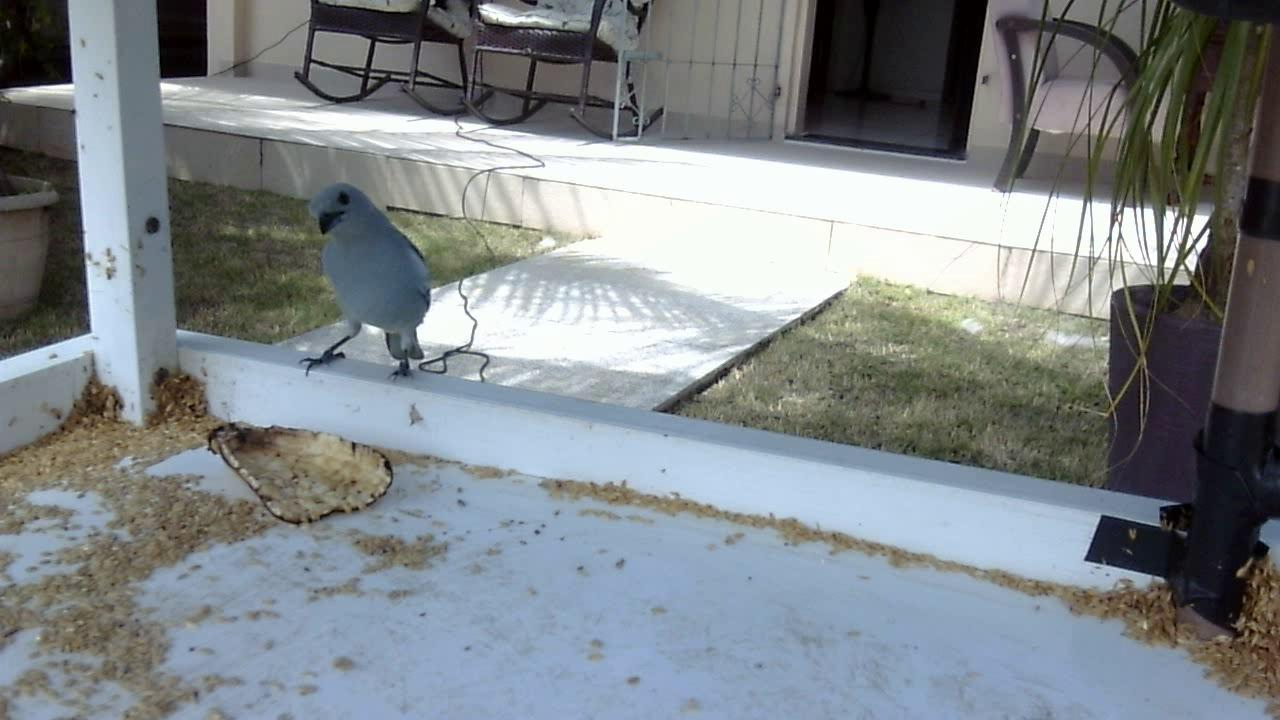sanhaco_da_amazonia: (293, 179, 468, 387)
